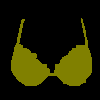reggiseno: (11, 17, 92, 86)
